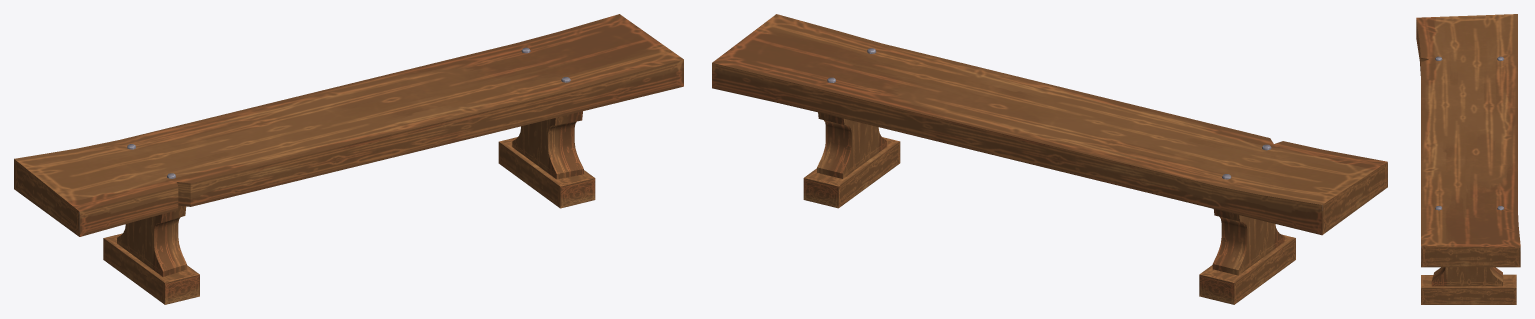
File: Bench.fbx
3 views of the same model, side by side, from view 1: azimuth 30°, elevation 25°; view 2: azimuth 150°, elevation 25°; view 3: azimuth 270°, elevation 25° (orthographic). The views are drawn at different scales.
Parts seen in each view (by area): view 1: Bench; view 2: Bench; view 3: Bench.
Boxes of the visible parts, x1,y1,x2,y2 form: Bench: (14,14,683,304); Bench: (712,14,1387,304); Bench: (1416,14,1520,304).
Bounding box in the file's own units: 278 × 53.32 × 53.43.
